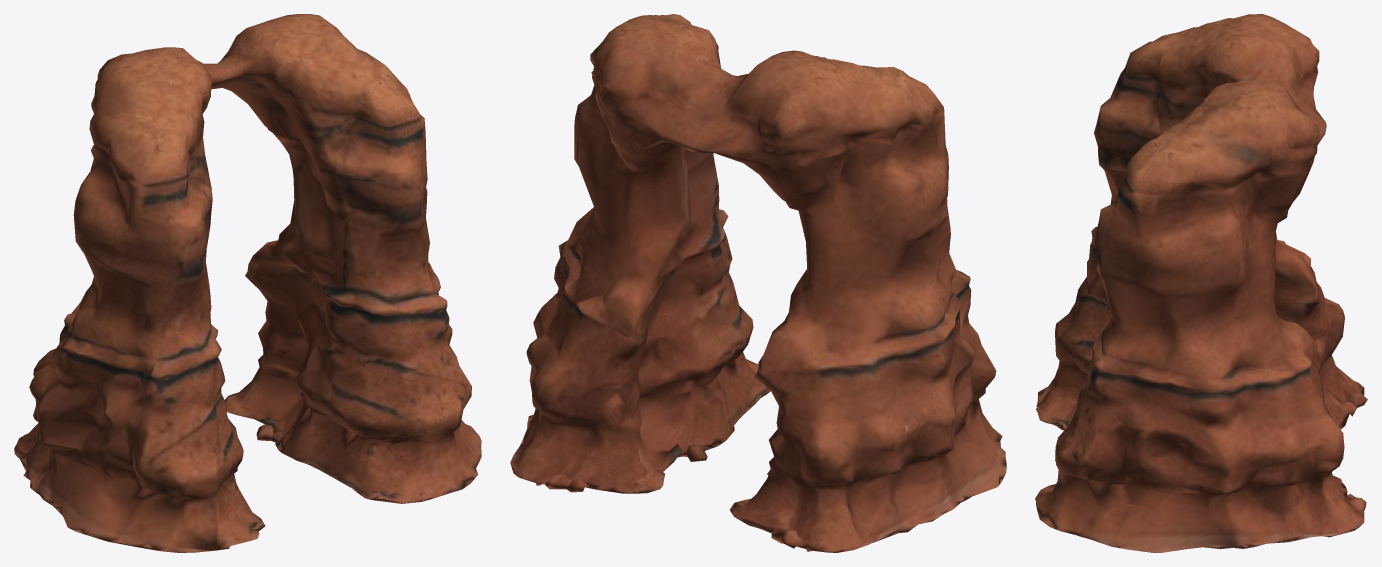
File: p_rock_arch.glb
The picture shows the model from 3 angles, left to right: view 1: azimuth 30°, elevation 25°; view 2: azimuth 150°, elevation 25°; view 3: azimuth 270°, elevation 25°; orthographic projection. The views are drawn at different scales.
Size of the model in its own units: 1.89 by 1.83 by 1.36.
Materials: 1 (1 with a texture image).
